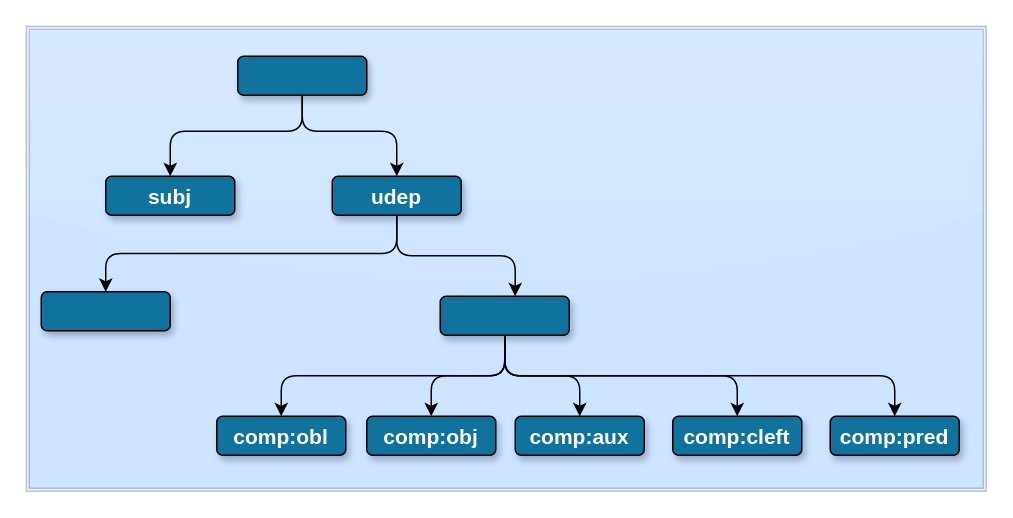
The diagram is 1013 pixels wide and 518 high, and some of its shapes have lost their labels. Here are the shapes that lost their labels. From the top down, the centre of each, then its label:
the point at 303,77: unk
the point at 106,312: mod
the point at 505,317: comp
